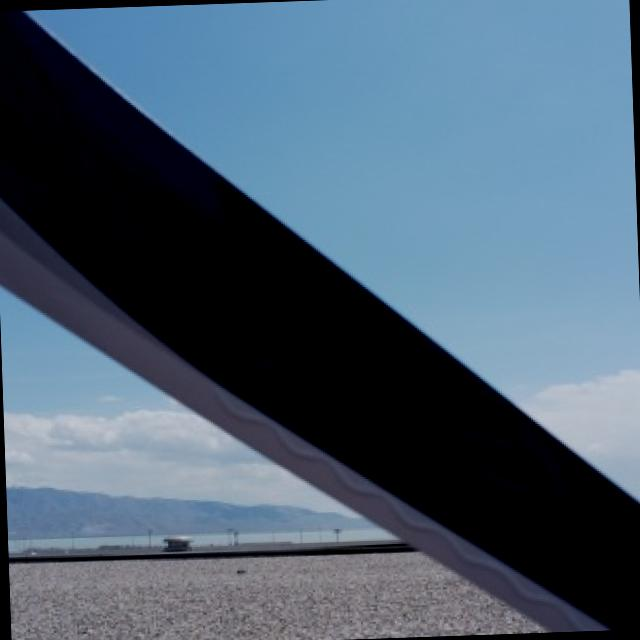healthy: (0, 10, 640, 630)
